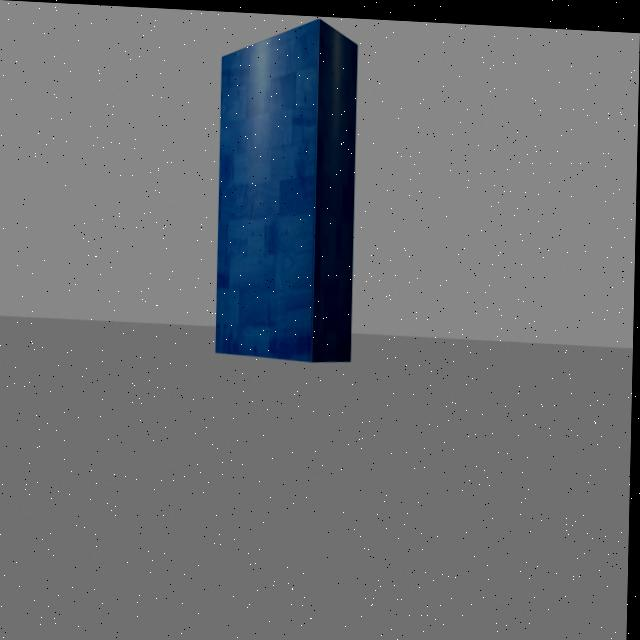shelf: (205, 9, 363, 375)
